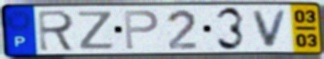2: (165, 8, 200, 51)
3: (214, 6, 252, 52)
P: (122, 9, 161, 51)
R: (36, 9, 77, 53)
V: (251, 8, 291, 49)
Z: (76, 10, 116, 51)
